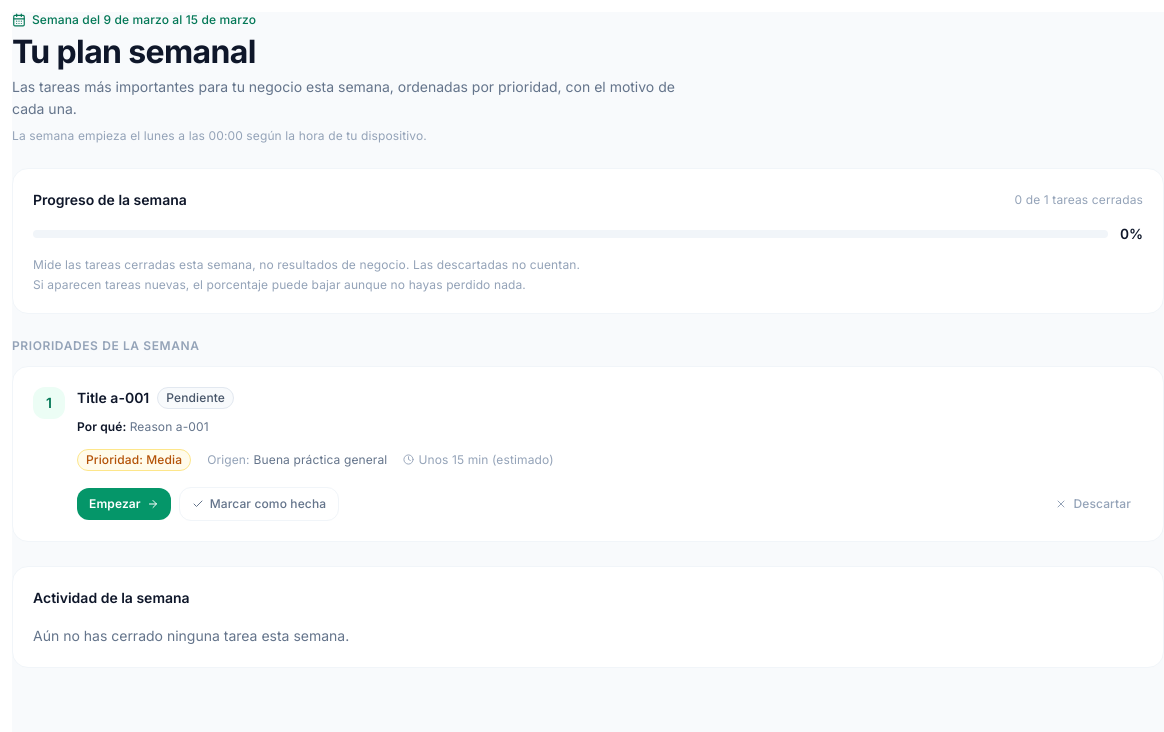
Test case: error handling on updates › does not navigate when starting an action fails
Click the button "Empezar": (124, 504) [77, 488, 171, 520]
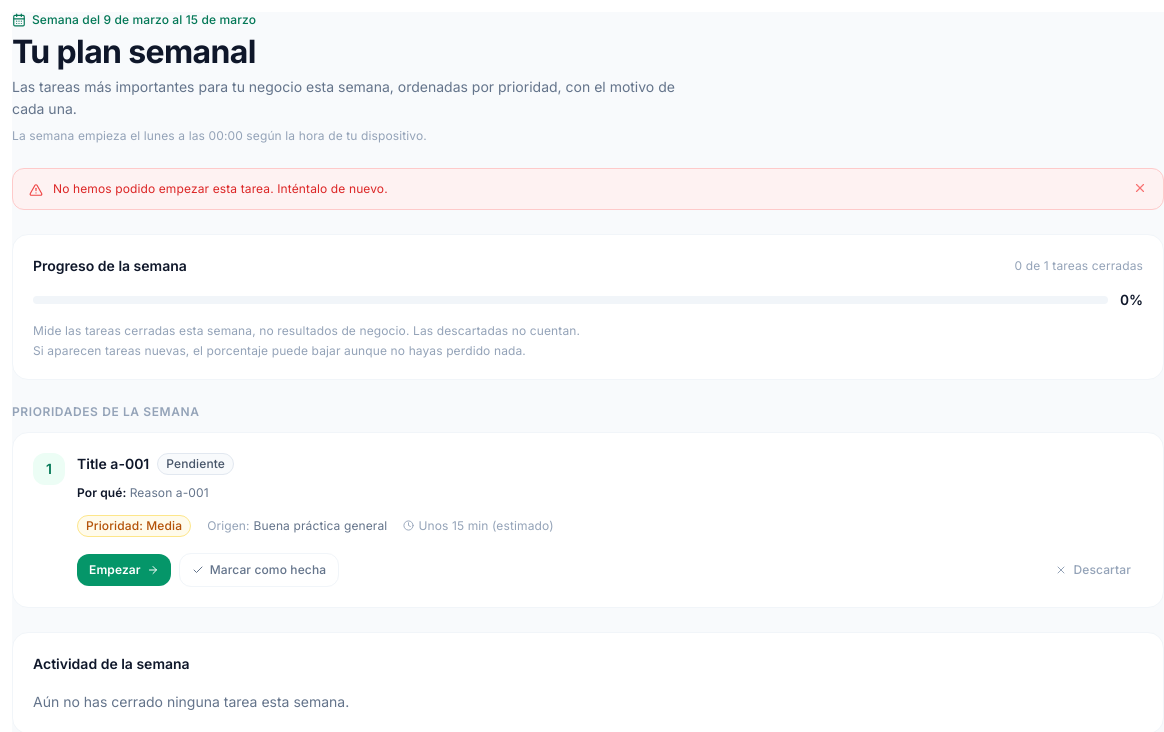
Result: the message "No hemos podido empezar esta tarea. Inténtalo de nuevo." is shown at [12, 168, 1163, 210]
